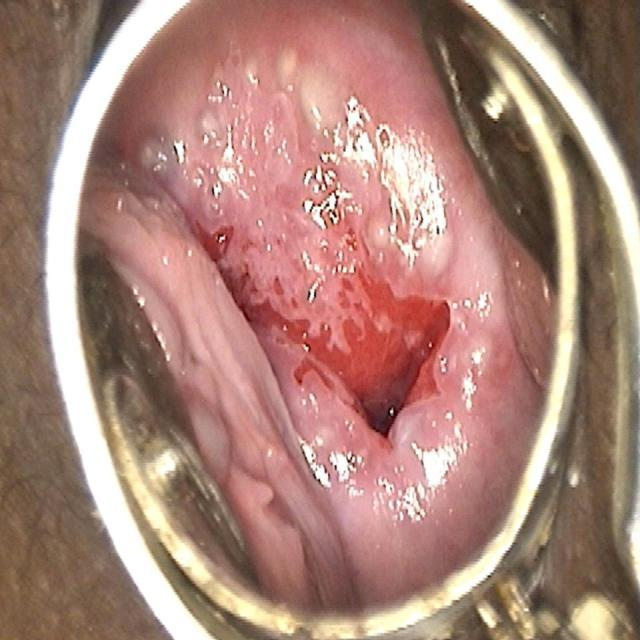cervical_lesion: (127, 16, 529, 587)
